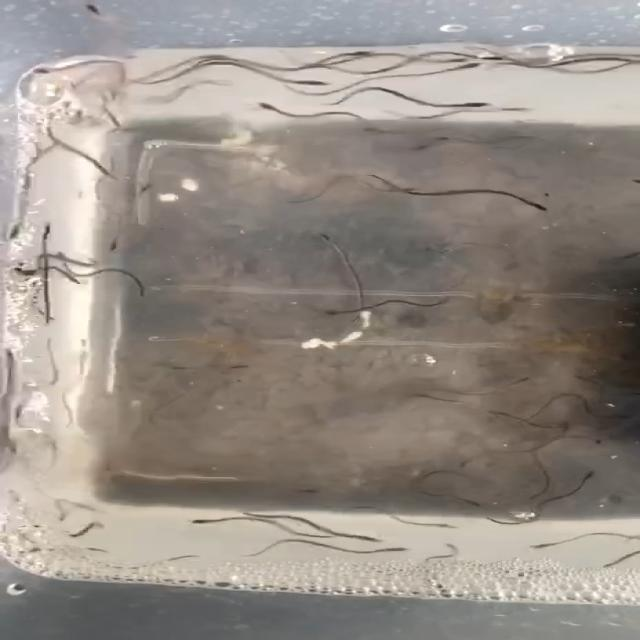inactive_glass_eel: (181, 513, 230, 529), (518, 193, 550, 216), (126, 178, 160, 199), (434, 62, 492, 74), (441, 97, 484, 113), (58, 522, 100, 538), (290, 73, 334, 88), (461, 50, 508, 64), (378, 178, 414, 196), (454, 452, 488, 471), (0, 264, 40, 280), (76, 1, 106, 22), (250, 99, 285, 116), (32, 219, 58, 241), (414, 138, 452, 153), (316, 306, 362, 318), (0, 346, 25, 368), (554, 420, 581, 440), (565, 469, 601, 484), (5, 219, 28, 242), (370, 546, 414, 558), (404, 389, 451, 400), (23, 66, 65, 78), (494, 102, 529, 116), (348, 529, 383, 543), (427, 519, 464, 531), (106, 235, 129, 254), (316, 234, 346, 248), (344, 45, 371, 60), (574, 434, 607, 446), (440, 53, 467, 67), (293, 485, 322, 498), (524, 541, 564, 550), (8, 402, 26, 421), (461, 497, 486, 510), (514, 371, 533, 388)
